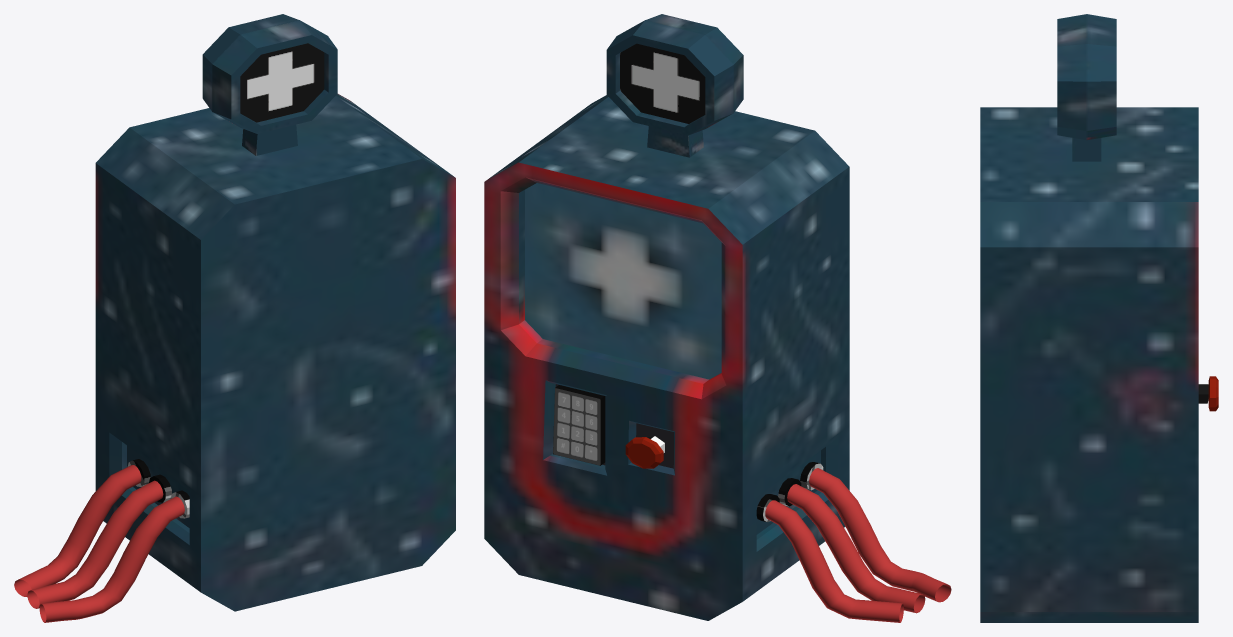
File: MachineHeal.obj
3 renders of one model, left to right at view 1: azimuth 30°, elevation 25°; view 2: azimuth 150°, elevation 25°; view 3: azimuth 270°, elevation 25°, orthographic. The views are drawn at different scales.
Visible parts, largest first — view 1: Machine_Cube.002; view 2: Machine_Cube.002; view 3: Machine_Cube.002.
Boxes of the visible parts, x1,y1,x2,y2 form: Machine_Cube.002: [14, 14, 455, 622]; Machine_Cube.002: [484, 14, 951, 622]; Machine_Cube.002: [980, 14, 1218, 622].
Size of the model in its own units: 5.03 by 6.6 by 2.62.
7 materials, 7 textured.
